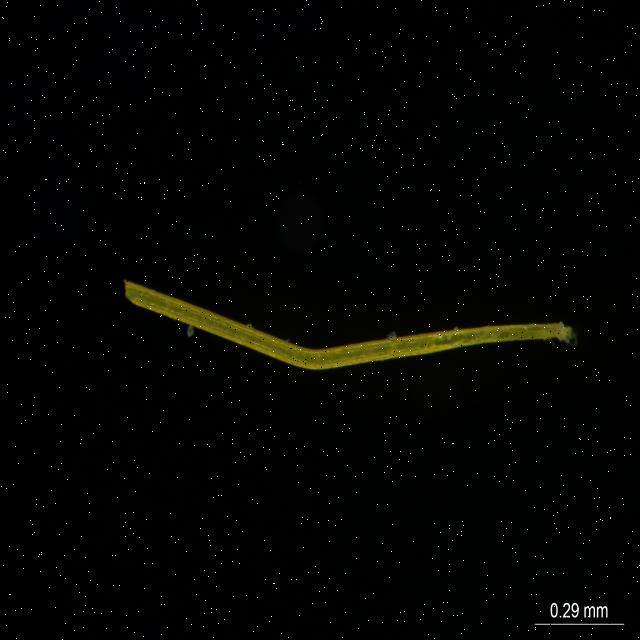Fibre: (120, 275, 588, 383)
